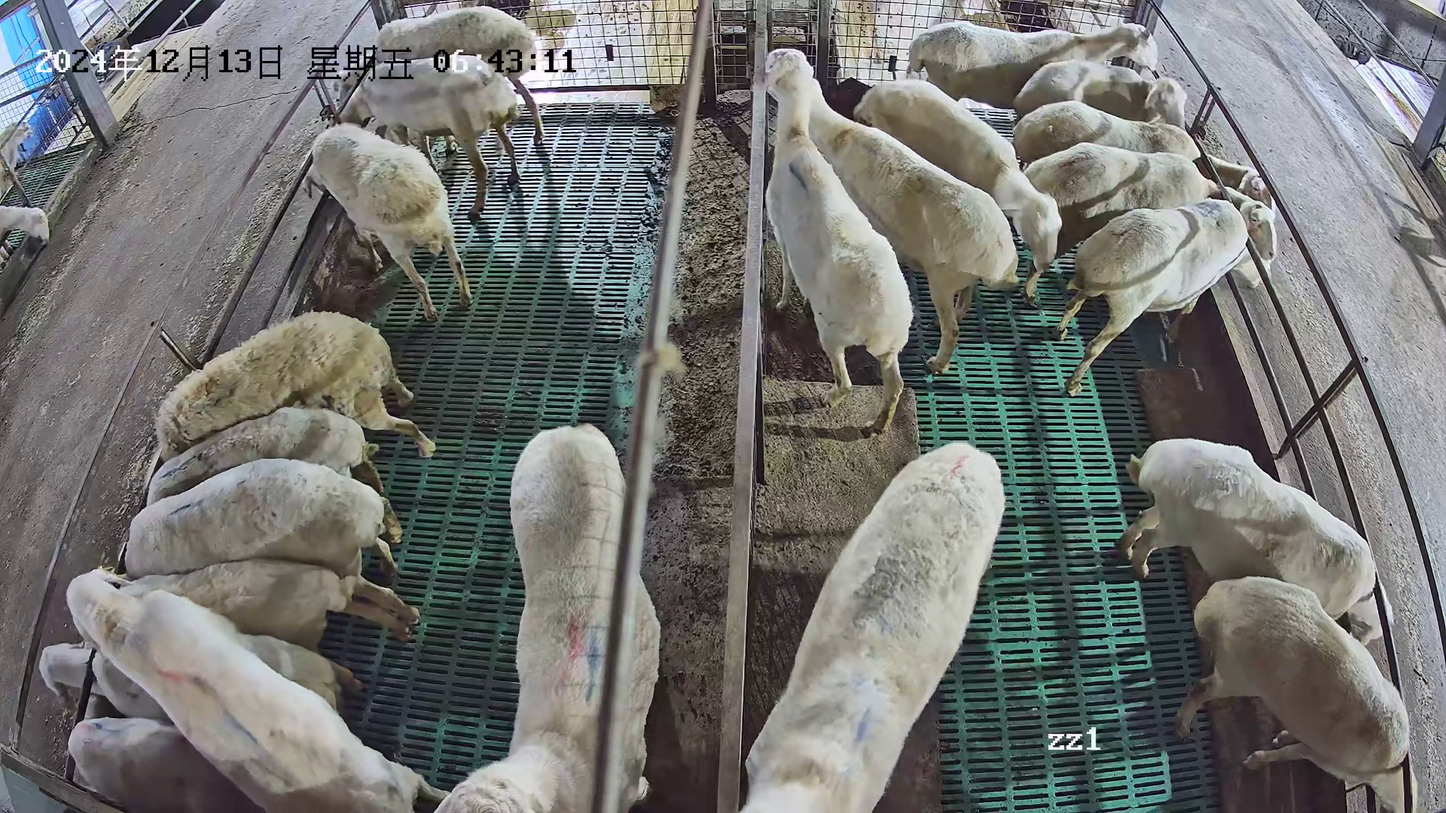Nmounting: (63, 563, 451, 813)
